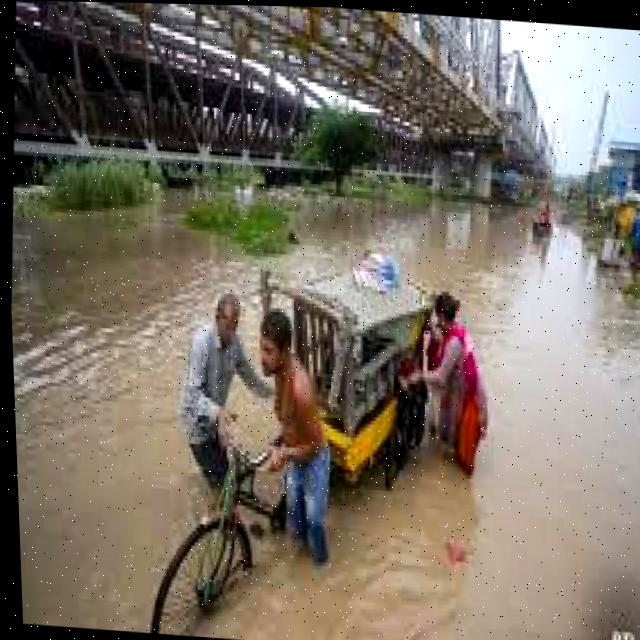civilian: (242, 302, 354, 580), (176, 285, 260, 524), (418, 291, 499, 499), (532, 197, 561, 232)
